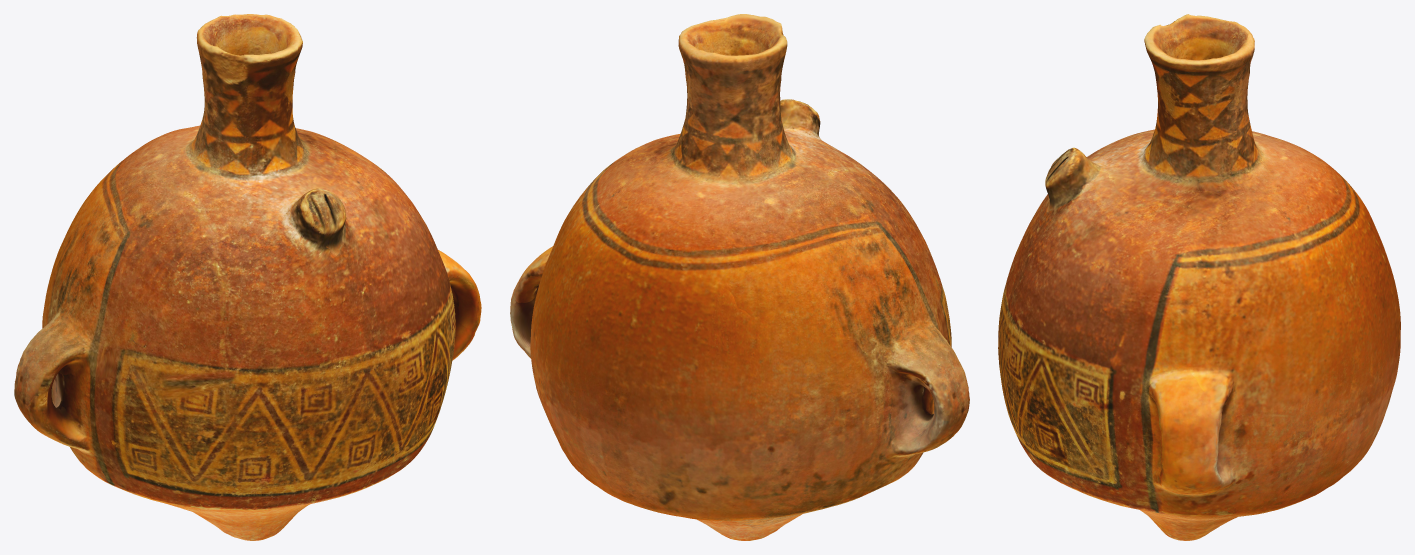
The model's file is Aribalo.glb.
3 renders of one model, left to right at view 1: azimuth 30°, elevation 25°; view 2: azimuth 150°, elevation 25°; view 3: azimuth 270°, elevation 25°, orthographic.
Visible parts, largest first — view 1: Model; view 2: Model; view 3: Model.
Part boxes in pixels (left/top/right/bottom): Model: left=14, top=14, right=481, bottom=540; Model: left=510, top=14, right=969, bottom=540; Model: left=998, top=14, right=1400, bottom=540.
Bounding box in the file's own units: 8.91 × 9.59 × 6.99.
Materials: 1 (1 with a texture image).
